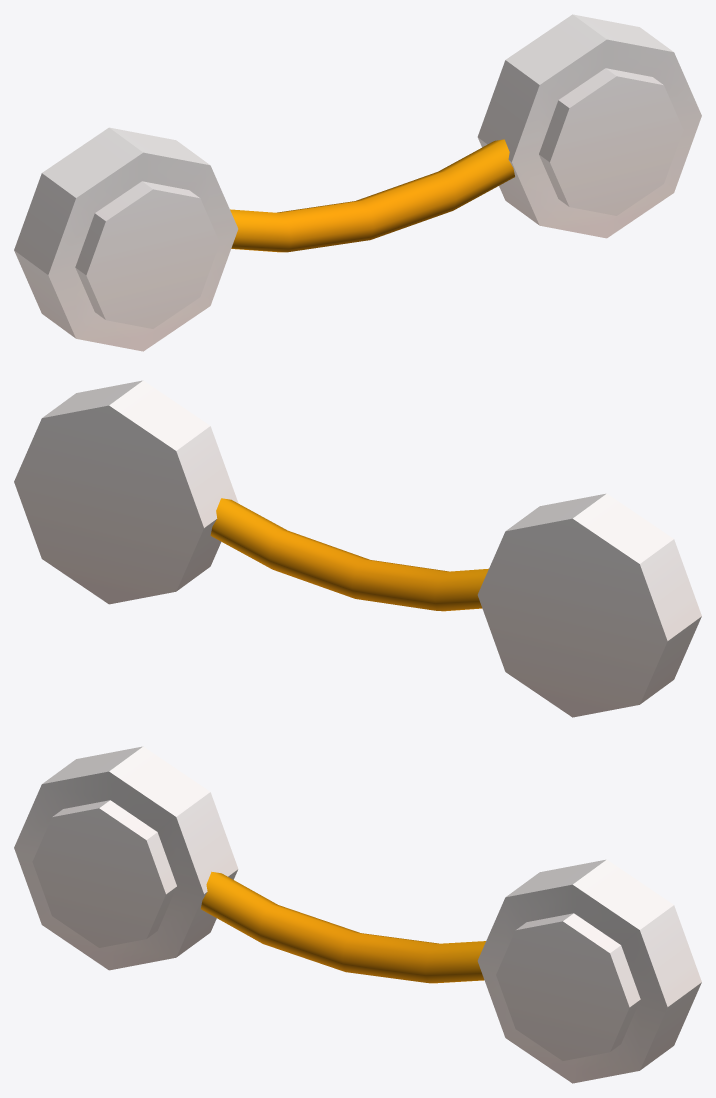
3 renders of one model, top to bottom at view 1: azimuth 30°, elevation 25°; view 2: azimuth 150°, elevation 25°; view 3: azimuth 330°, elevation 25°, orthographic.
Parts seen in each view (by area): view 1: lv1; view 2: lv1; view 3: lv1.
Part boxes in pixels (left/top/right/bottom): lv1: left=14, top=14, right=701, bottom=351; lv1: left=14, top=380, right=701, bottom=717; lv1: left=14, top=746, right=701, bottom=1083.
Bounding box in the file's own units: 14.68 × 4.27 × 1.71.
Materials: 1 (1 with a texture image).
